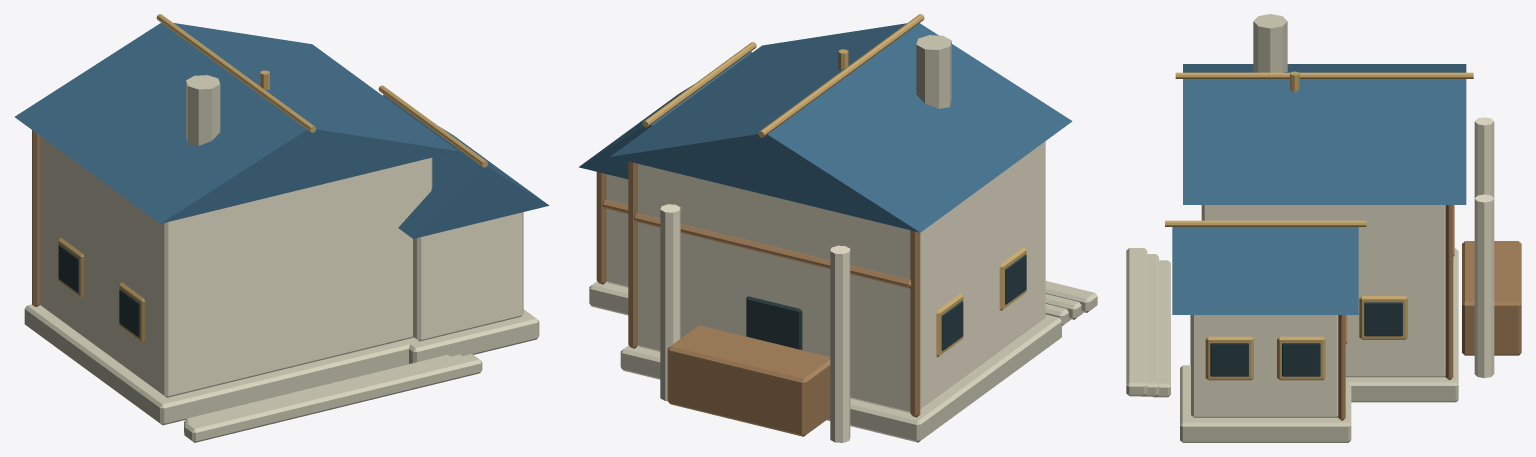
File: level_24.glb
3 views of the same model, side by side, from view 1: azimuth 30°, elevation 25°; view 2: azimuth 150°, elevation 25°; view 3: azimuth 270°, elevation 25° (orthographic). The views are drawn at different scales.
Visible parts, largest first — view 1: workshop — level 24; view 2: workshop — level 24; view 3: workshop — level 24.
Boxes of the visible parts, x1=… form: workshop — level 24: x1=14, y1=14, x2=549, y2=442; workshop — level 24: x1=579, y1=14, x2=1097, y2=442; workshop — level 24: x1=1126, y1=14, x2=1521, y2=442.
Bounding box in the file's own units: 5.76 × 4.22 × 5.3.
